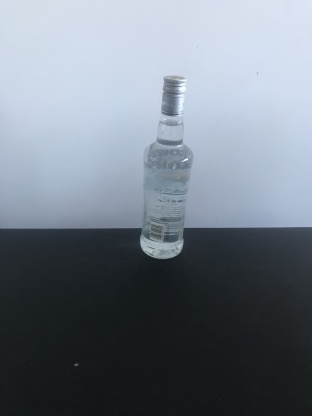nakretka: (159, 72, 188, 117)
